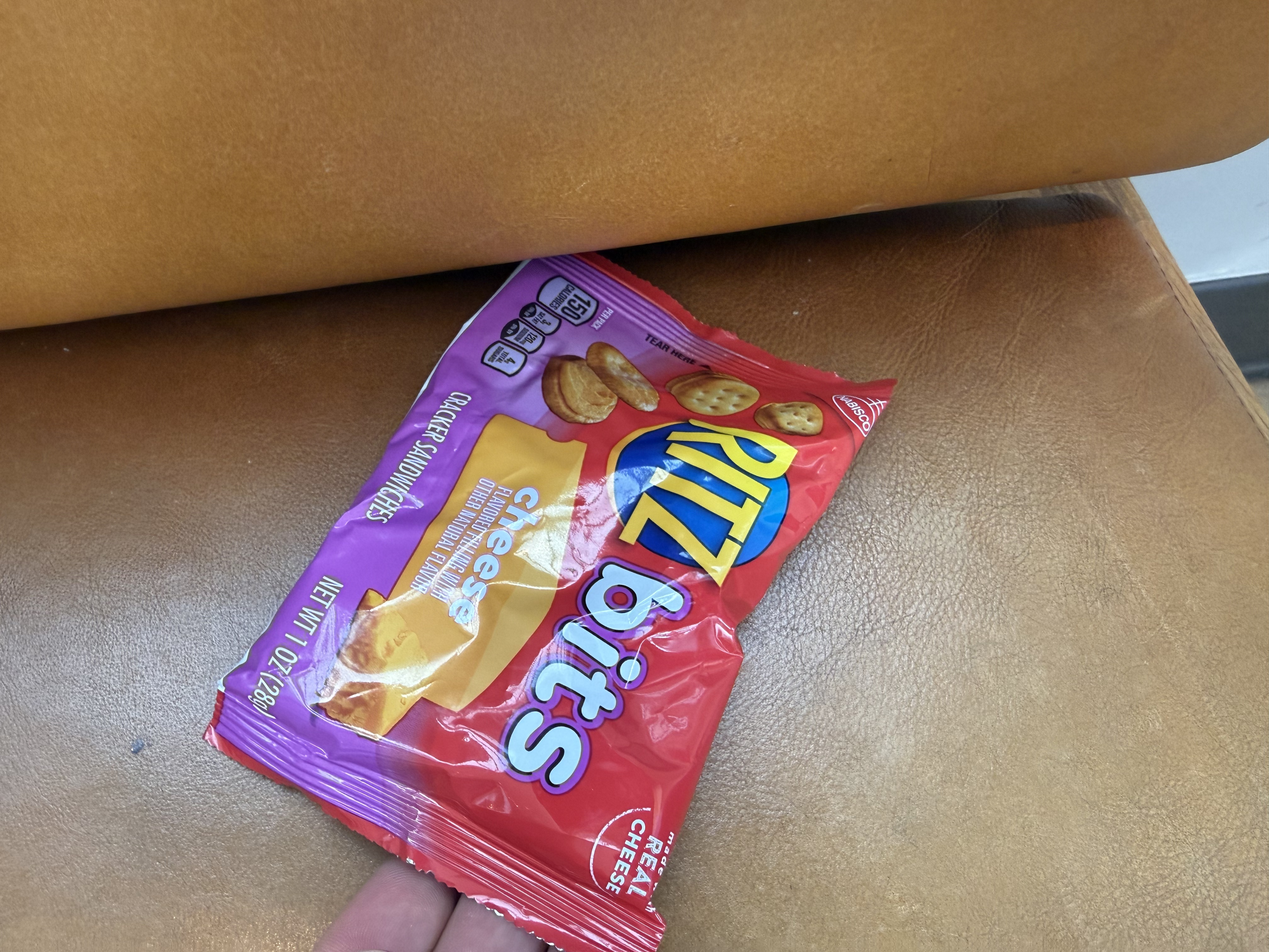ritz_cheese: (511, 195, 927, 824)
